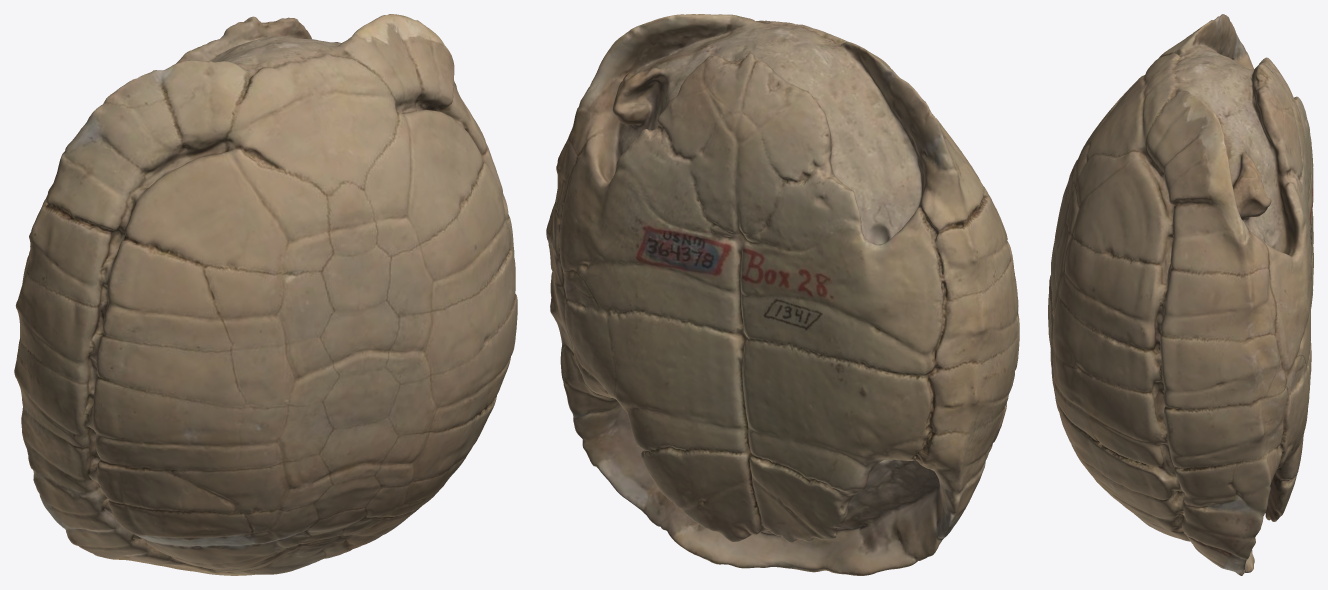
3 views of the same model, side by side, from view 1: azimuth 30°, elevation 25°; view 2: azimuth 150°, elevation 25°; view 3: azimuth 270°, elevation 25° (orthographic). The views are drawn at different scales.
Parts seen in each view (by area): view 1: Stylemys_nebrascensis_Leidy__1851-unwrapped-webmulti; view 2: Stylemys_nebrascensis_Leidy__1851-unwrapped-webmulti; view 3: Stylemys_nebrascensis_Leidy__1851-unwrapped-webmulti.
Boxes of the visible parts, bbox=[...] form: Stylemys_nebrascensis_Leidy__1851-unwrapped-webmulti: bbox=[14, 14, 517, 575]; Stylemys_nebrascensis_Leidy__1851-unwrapped-webmulti: bbox=[546, 14, 1019, 575]; Stylemys_nebrascensis_Leidy__1851-unwrapped-webmulti: bbox=[1048, 14, 1313, 575].
Bounding box in the file's own units: 4323 × 4915 × 2458.
1 material, 1 textured.
